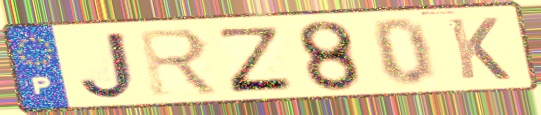0: (371, 16, 437, 89)
8: (296, 18, 363, 93)
J: (76, 29, 139, 102)
K: (444, 15, 514, 82)
R: (134, 26, 224, 97)
Z: (216, 26, 297, 95)
